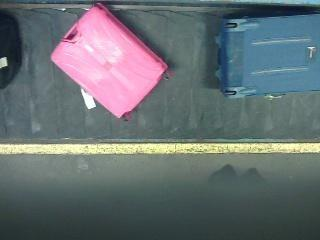Suitcase: (47, 0, 175, 120), (219, 4, 320, 110)
